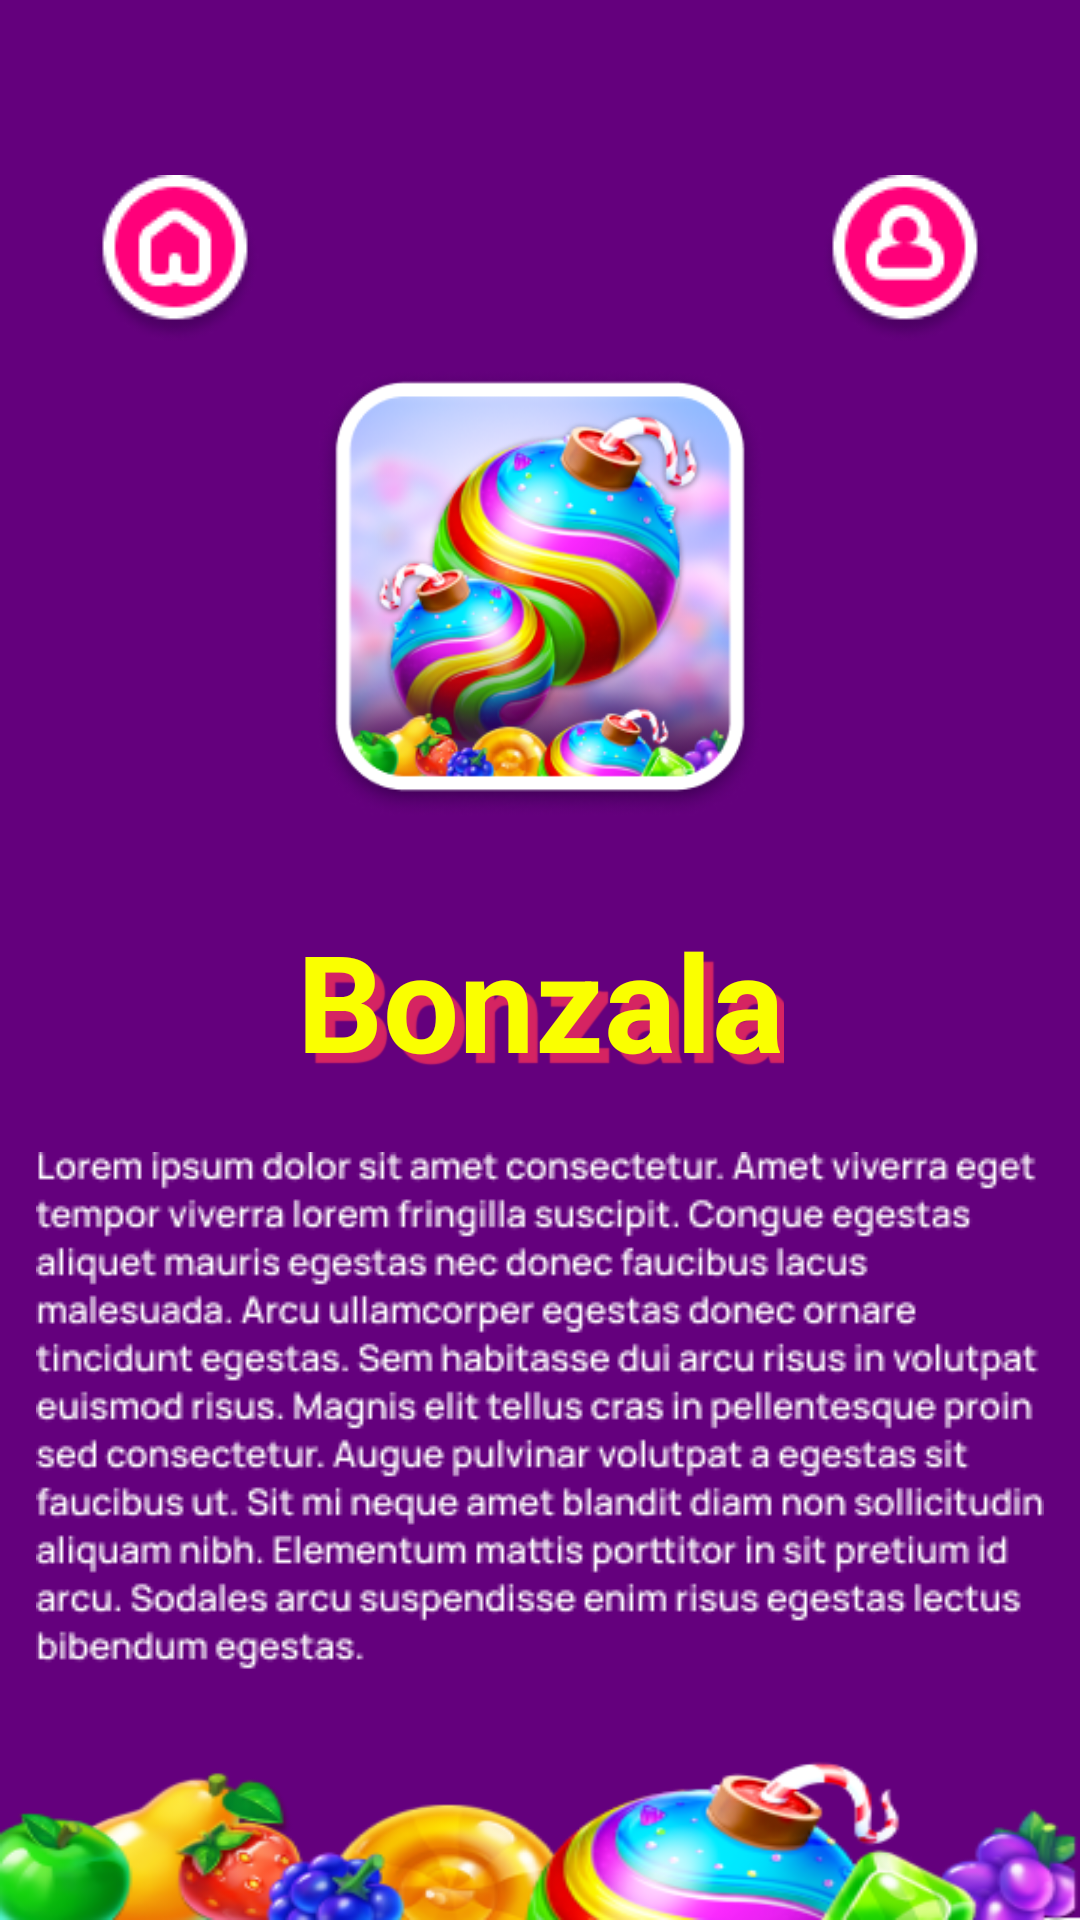

Screen size 1080*1920. Icon name, then its center in pixels as point (x, y):
home: point (175, 249)
profile: point (905, 249)
